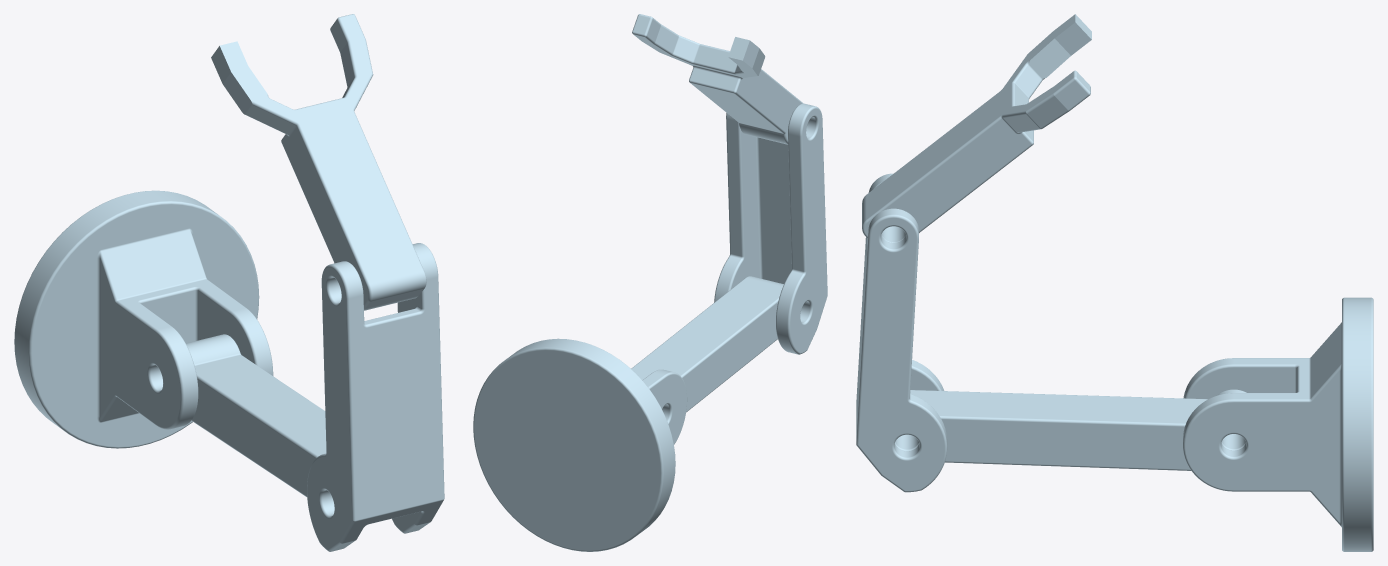
The model's file is ArmAssemblyFull.gltf.
3 renders of one model, left to right at view 1: azimuth 30°, elevation 25°; view 2: azimuth 150°, elevation 25°; view 3: azimuth 270°, elevation 25°, orthographic. The views are drawn at different scales.
Visible parts, largest first — view 1: Part 1 (×4); view 2: Part 1 (×4); view 3: Part 1 (×4).
Part boxes in pixels (x1,y1,x2,y2): Part 1 (×4): (14, 14, 444, 551); Part 1 (×4): (473, 14, 827, 551); Part 1 (×4): (856, 14, 1373, 551).
Size of the model in its own units: 0.1 by 0.2151 by 0.2035.
